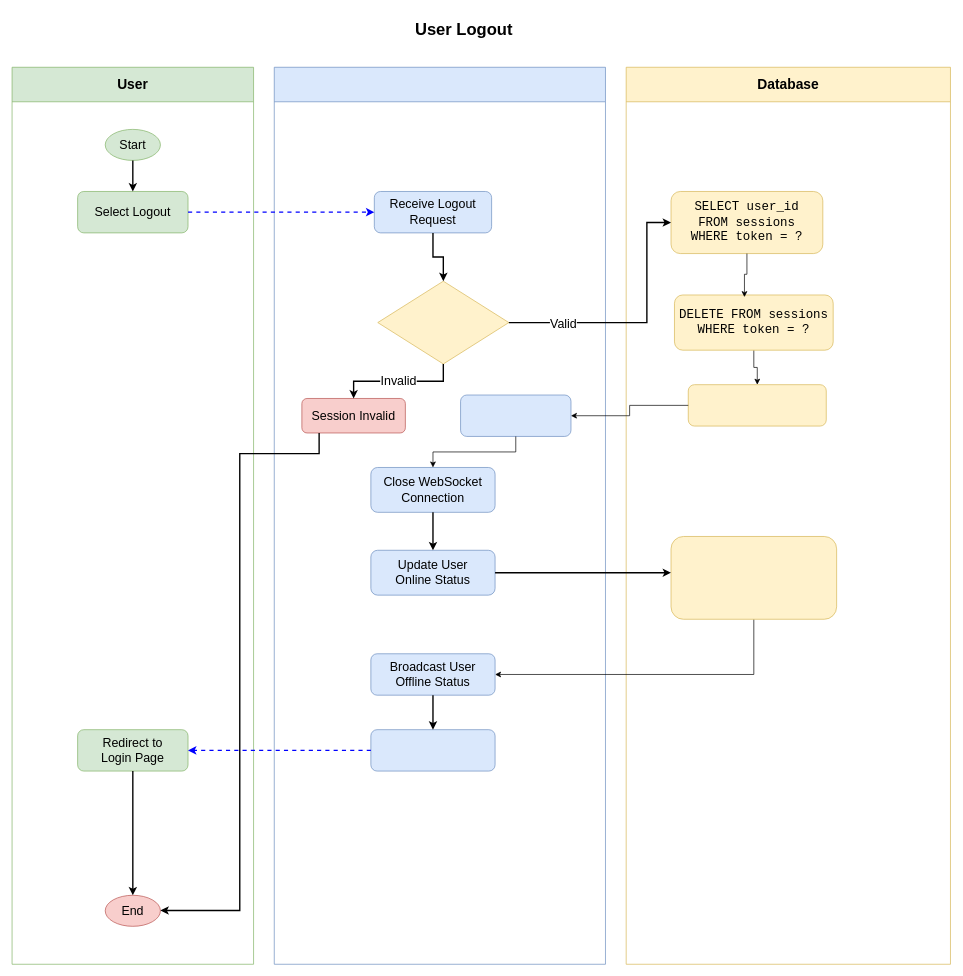
This 963x976 diagram has some shape labels left out. The shapes that lost their labels are listed below. From the top down, each one's box as (x1, y1, x2, y2) in pixels, then its label:
(377, 280, 509, 364): Verify Session Token
(460, 394, 571, 436): Terminate Session
(688, 384, 826, 426): Return Session User ID
(274, 67, 605, 964): Server
(670, 536, 837, 619): UPDATE users SET is_online = FALSE, last_seen = NOW() WHERE user_id = ?
(370, 729, 495, 771): Clear Client Cache/Session
